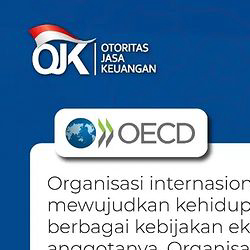ojk: (26, 24, 159, 74)
